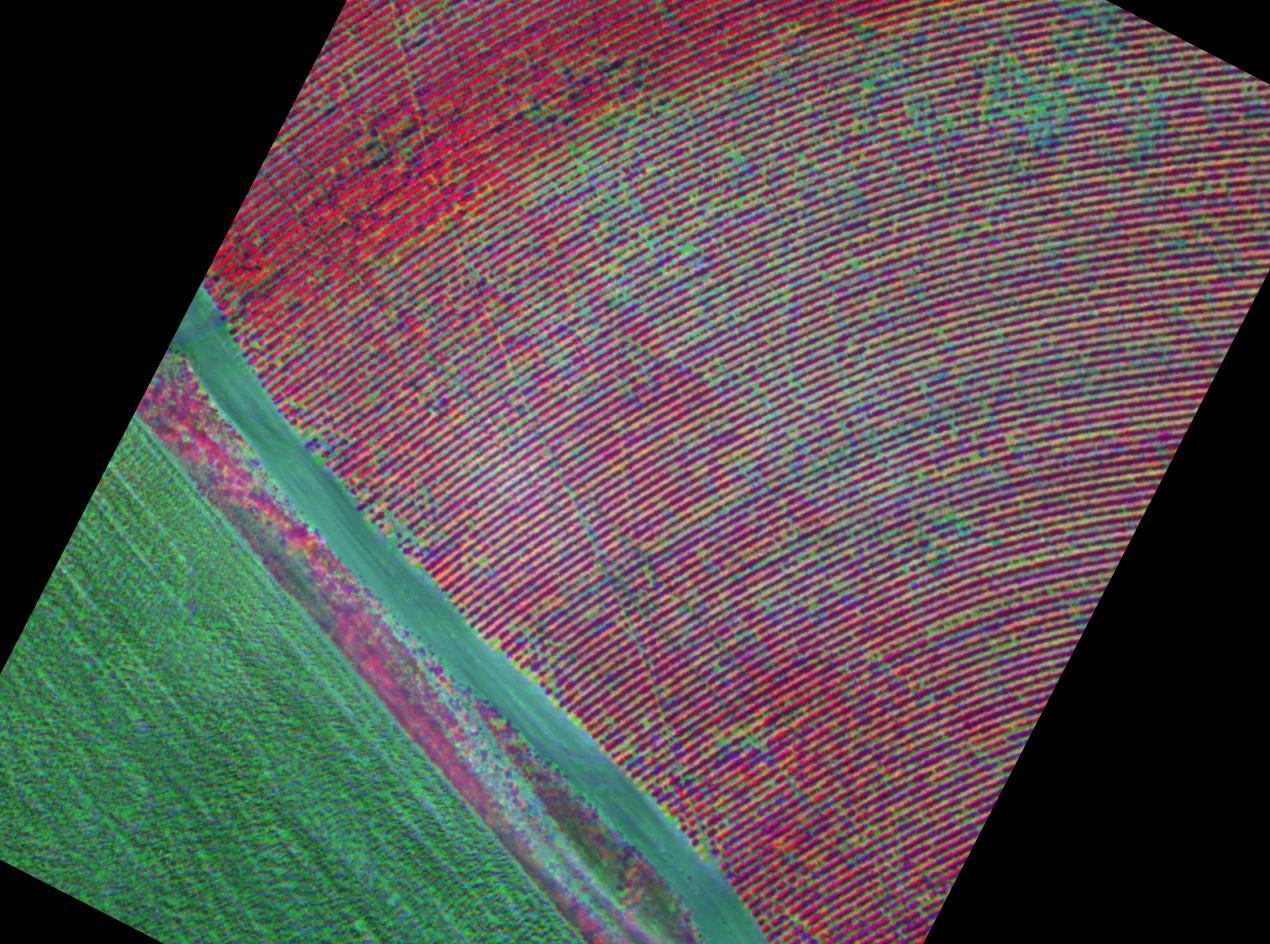dc: (684, 246, 691, 254), (866, 83, 873, 90), (1152, 79, 1158, 87), (1038, 107, 1044, 114), (909, 108, 915, 115), (719, 738, 725, 745), (931, 512, 936, 518), (749, 738, 753, 743)
